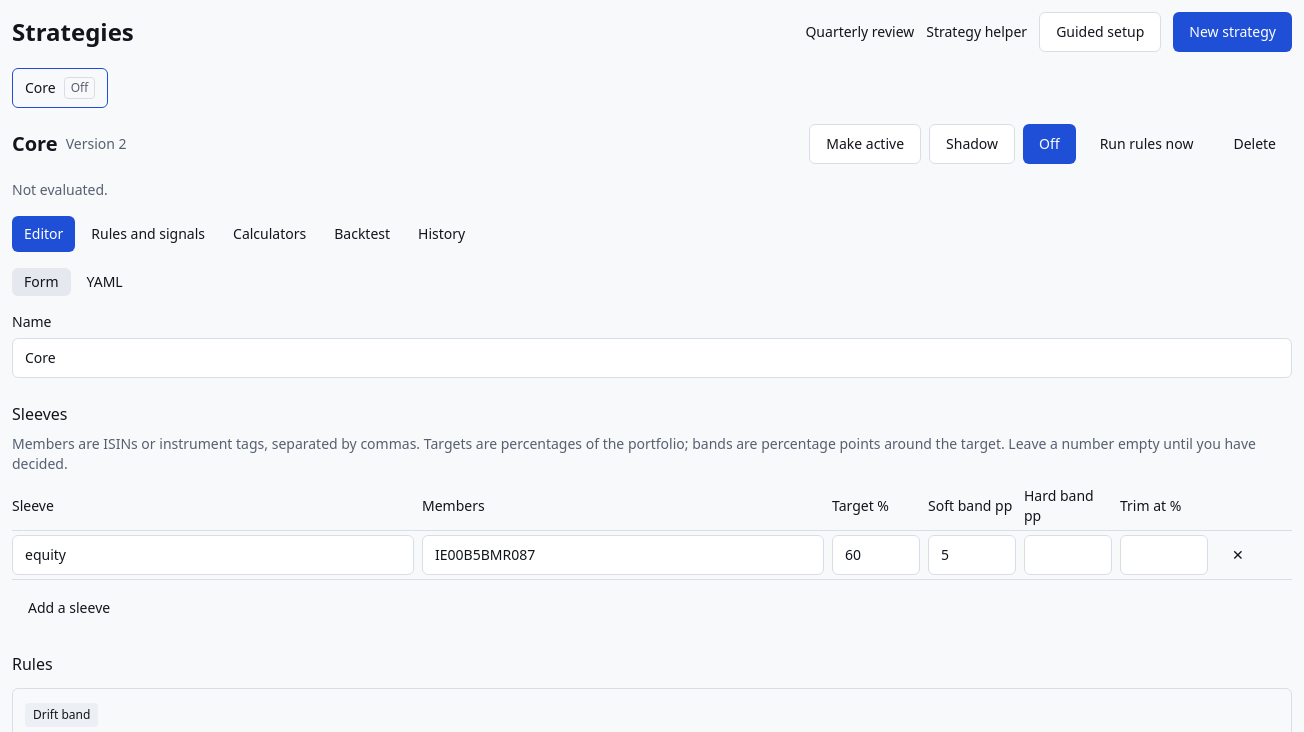
strategies (FR-ST-01, FR-ST-02) › deletes a strategy after asking, and shows the list without it
This screenshot has width=1304, height=732.
Click the button "Delete" at (1255, 144), box [1217,124,1292,164]
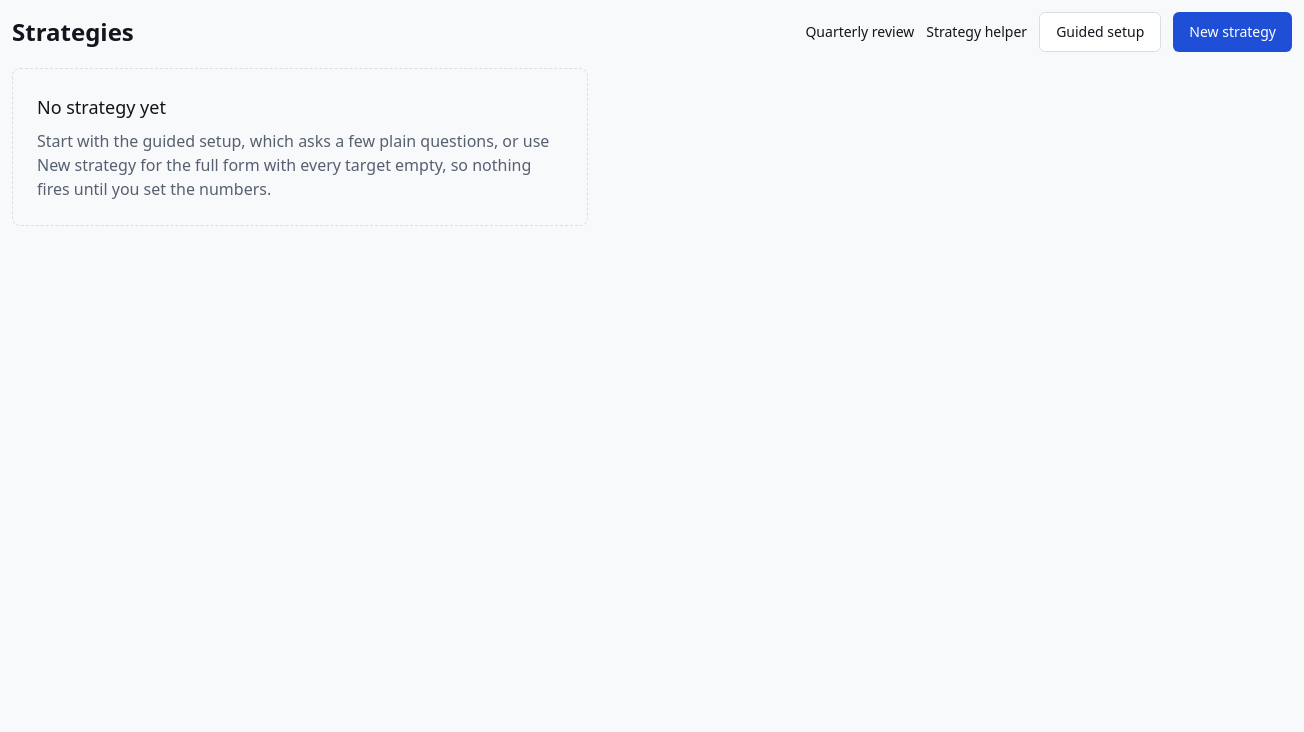
Check: the heading "No strategy yet" is shown, box [37,95,166,119]
